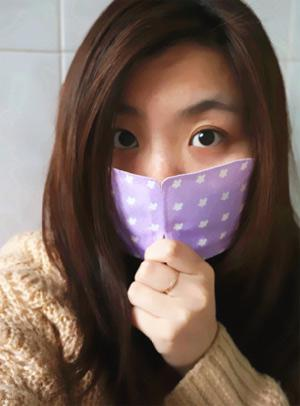WRONG: (93, 95, 247, 258)
